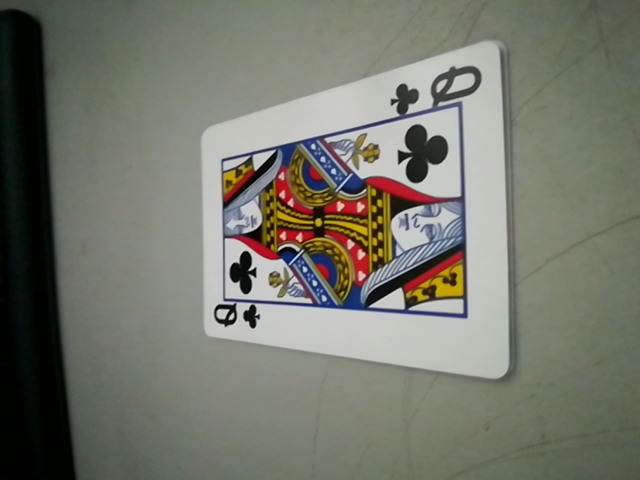mh q: (383, 60, 489, 117), (207, 294, 267, 337)
